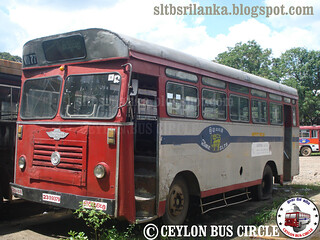bus: (8, 26, 297, 225)
